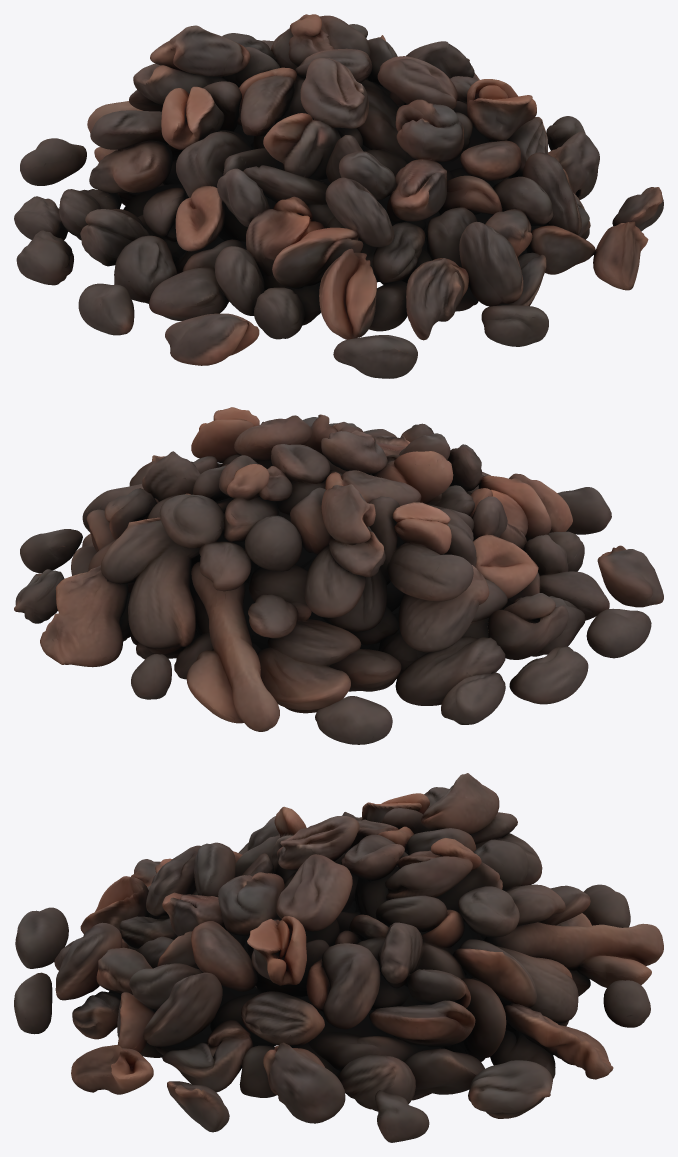
File: lod_basic_shaded.fbx
3 renders of one model, top to bottom at view 1: azimuth 30°, elevation 25°; view 2: azimuth 150°, elevation 25°; view 3: azimuth 270°, elevation 25°, orthographic. The views are drawn at different scales.
Visible parts, largest first — view 1: model_LOD0; view 2: model_LOD0; view 3: model_LOD0.
Boxes of the visible parts, x1=… form: model_LOD0: x1=14, y1=14, x2=663, y2=378; model_LOD0: x1=14, y1=407, x2=663, y2=744; model_LOD0: x1=14, y1=773, x2=663, y2=1142.
Size of what is drawn, in the model's own units: 190 by 63.15 by 187.
